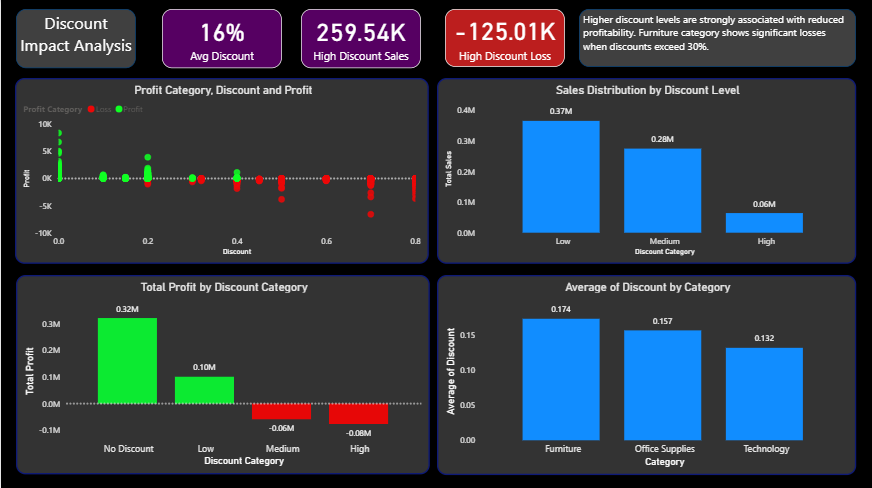

The page's visual inventory and layout, read from the dashboard file:
{"tool":"powerbi","page":{"name":"Discount Impact Analysis ","canvas":[1280,720],"ordinal":2},"visuals":[{"type":"columnChart","title":"Sales Distribution by Discount Level","fields":{"Category":["fact_superstore.Discount Category"],"Y":["fact_superstore.Total Sales"]},"box":[640.7,114.6,615.7,273.3],"z":0},{"type":"card","fields":{"Values":["fact_superstore.High Discount Sales"]},"box":[440.8,13.2,176.3,86.7],"z":1000},{"type":"card","fields":{"Values":["fact_superstore.High Discount Loss"]},"box":[652.4,13.2,176.3,85.2],"z":2000},{"type":"card","fields":{"Values":["fact_superstore.Avg Discount"]},"box":[236.6,13.2,176.3,86.7],"z":3000},{"type":"textbox","box":[22,13.2,176.3,86.7],"z":4000},{"type":"textbox","box":[849.3,13.2,407,85.2],"z":5000},{"type":"scatterChart","fields":{"X":["fact_superstore.Discount"],"Y":["fact_superstore.Profit"],"Series":["fact_superstore.Profit Category"]},"box":[20.6,114.6,608.3,273.3],"z":6000},{"type":"columnChart","fields":{"Category":["fact_superstore.Discount Category"],"Y":["fact_superstore.Total Profit"]},"box":[21.5,404,607.8,293.2],"z":7000},{"type":"columnChart","fields":{"Y":["Avg(fact_superstore.Discount)"],"Category":["dim_product.Category"]},"box":[640.7,404.1,615.7,293.9],"z":8000}]}

Visuals, with their boxes in screenshot pixels (x1, y1, x2, y2), scaled from the page's 1280x720 canvas onto the 872x488 screenshot:
"Sales Distribution by Discount Level" columnChart: [left=436, top=78, right=856, bottom=263]
card - fact_superstore.High Discount Sales: [left=300, top=9, right=420, bottom=68]
card - fact_superstore.High Discount Loss: [left=444, top=9, right=565, bottom=67]
card - fact_superstore.Avg Discount: [left=161, top=9, right=281, bottom=68]
textbox: [left=15, top=9, right=135, bottom=68]
textbox: [left=579, top=9, right=856, bottom=67]
scatterChart - fact_superstore.Discount x fact_superstore.Profit: [left=14, top=78, right=428, bottom=263]
columnChart - fact_superstore.Discount Category x fact_superstore.Total Profit: [left=15, top=274, right=429, bottom=473]
columnChart - Avg(fact_superstore.Discount) x dim_product.Category: [left=436, top=274, right=856, bottom=473]
